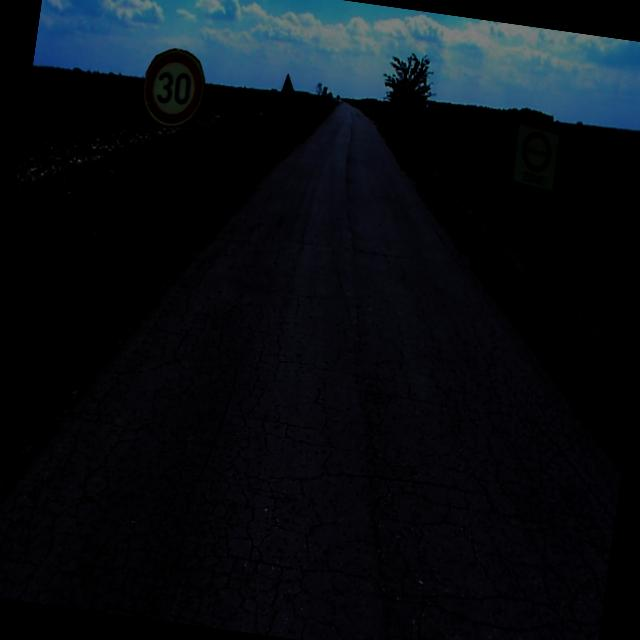road: (0, 103, 621, 640)
